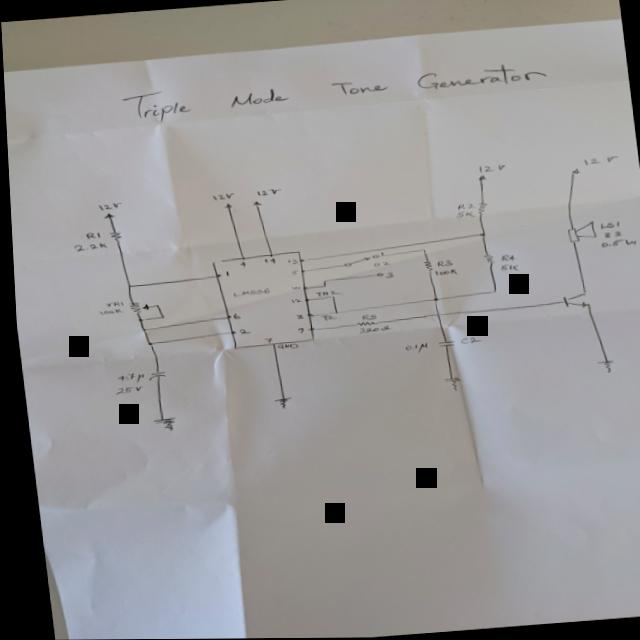capacitor: (142, 370, 164, 381), (430, 339, 454, 349)
crossover: (430, 312, 438, 317)
ground: (147, 416, 175, 432), (437, 376, 460, 392), (590, 359, 613, 375), (266, 396, 289, 410)
junction: (475, 232, 485, 238), (428, 296, 436, 303), (132, 317, 143, 322), (142, 341, 152, 346), (155, 314, 164, 319), (137, 327, 145, 332), (150, 303, 158, 308), (329, 310, 337, 315), (486, 289, 494, 294), (325, 295, 333, 299), (318, 279, 326, 282), (417, 248, 424, 251), (122, 285, 128, 288), (317, 284, 323, 287)
resistor: (123, 300, 147, 314), (104, 230, 123, 243), (473, 201, 486, 216), (478, 253, 493, 265), (418, 260, 431, 273), (350, 320, 373, 327)
source: (98, 211, 113, 220), (247, 200, 261, 207), (566, 168, 579, 175), (220, 202, 232, 209), (473, 174, 485, 181)
switch: (338, 254, 378, 269)
terminal: (372, 272, 380, 277)
text: (117, 60, 551, 126), (596, 237, 636, 249), (579, 155, 617, 166), (110, 371, 142, 384), (227, 287, 268, 297), (69, 241, 106, 252), (399, 342, 427, 354), (109, 385, 140, 395), (430, 267, 456, 278), (475, 163, 503, 173), (353, 325, 388, 333), (253, 187, 280, 197), (94, 201, 120, 211), (310, 289, 340, 297), (598, 230, 621, 240), (94, 307, 120, 315), (596, 221, 619, 230), (451, 210, 473, 219), (495, 263, 517, 272), (208, 192, 232, 200), (455, 336, 479, 344), (272, 342, 294, 350), (496, 254, 513, 263), (260, 256, 275, 266), (81, 231, 99, 239), (432, 259, 450, 267), (453, 203, 473, 210), (101, 300, 121, 307), (316, 314, 335, 321), (356, 314, 373, 321), (233, 328, 248, 335), (286, 296, 298, 303), (283, 258, 295, 265), (259, 337, 270, 344), (292, 327, 303, 334), (286, 284, 298, 290), (381, 271, 391, 278), (291, 313, 301, 320), (228, 312, 238, 319), (234, 261, 244, 268), (377, 260, 389, 265), (220, 270, 228, 277), (287, 269, 295, 276), (376, 251, 382, 256)
transistor: (555, 292, 589, 310)
